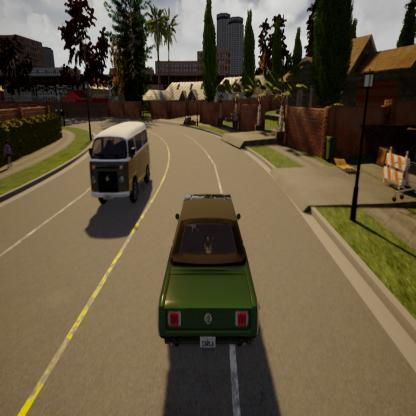Cars: (157, 162, 268, 378), (84, 106, 150, 244)
